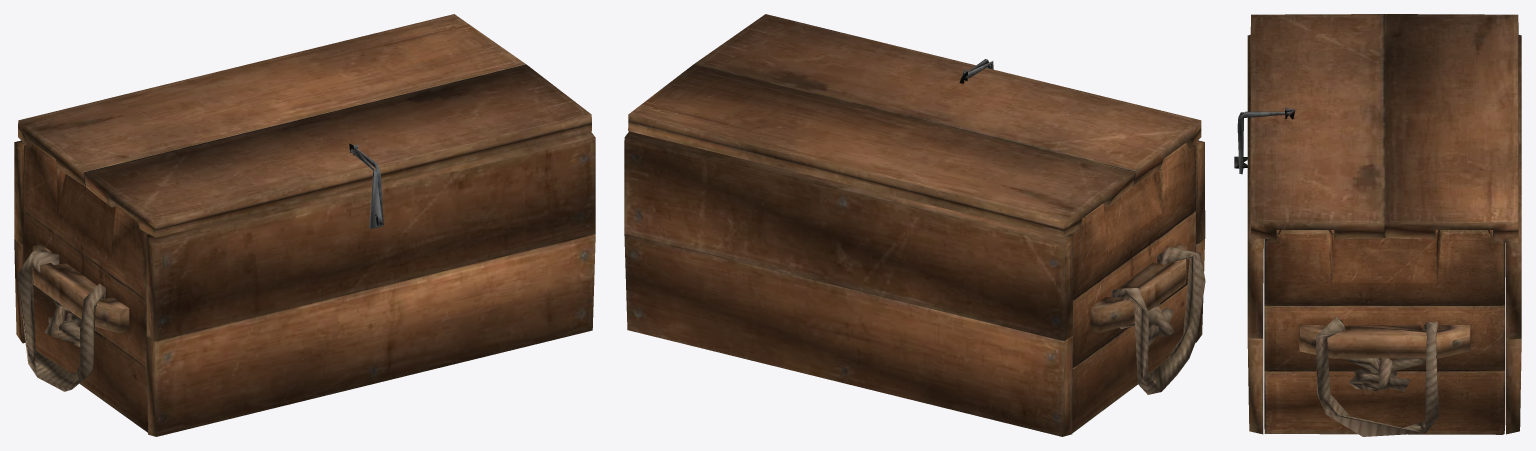
The model's file is ph_wooden_crate_01_lod1.glb.
3 views of the same model, side by side, from view 1: azimuth 30°, elevation 25°; view 2: azimuth 150°, elevation 25°; view 3: azimuth 270°, elevation 25° (orthographic). The views are drawn at different scales.
Visible parts, largest first — view 1: wooden_crate_01, wooden_crate_01_lid, wooden_crate_01_latch; view 2: wooden_crate_01, wooden_crate_01_lid; view 3: wooden_crate_01_lid, wooden_crate_01, wooden_crate_01_latch.
Part boxes in pixels (x1,y1,x2,y2): wooden_crate_01: [14, 131, 595, 436]; wooden_crate_01_lid: [18, 14, 591, 237]; wooden_crate_01_latch: [350, 148, 383, 228]; wooden_crate_01: [624, 131, 1205, 436]; wooden_crate_01_lid: [628, 14, 1201, 237]; wooden_crate_01_lid: [1250, 14, 1518, 239]; wooden_crate_01: [1234, 34, 1521, 436]; wooden_crate_01_latch: [1237, 111, 1291, 174].
Bounding box in the file's own units: 0.8205 × 0.3469 × 0.4043.
Materials: 1 (1 with a texture image).
